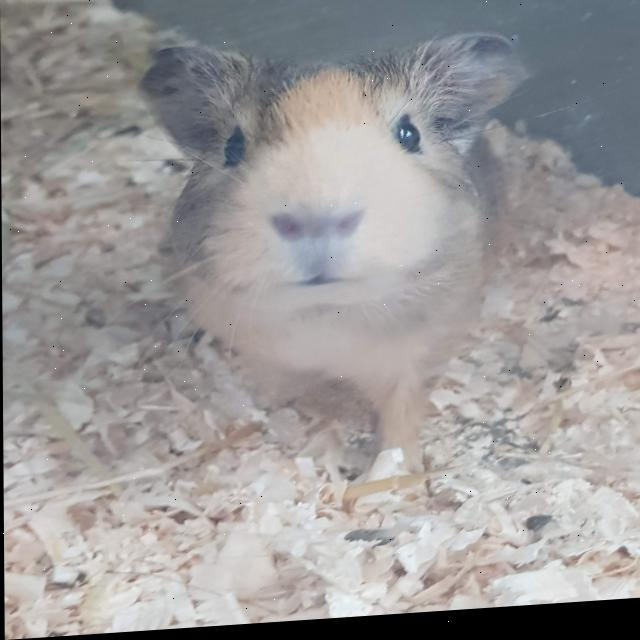guinea pig: (117, 28, 531, 533)
